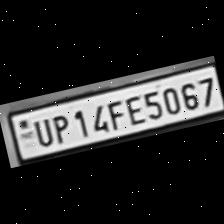0: (156, 83, 181, 117)
1: (66, 106, 90, 140)
4: (84, 100, 110, 136)
5: (138, 88, 164, 122)
6: (175, 78, 201, 113)
7: (194, 74, 219, 108)
E: (120, 92, 146, 126)
F: (102, 97, 128, 132)
P: (47, 111, 74, 145)
U: (27, 114, 54, 149)
